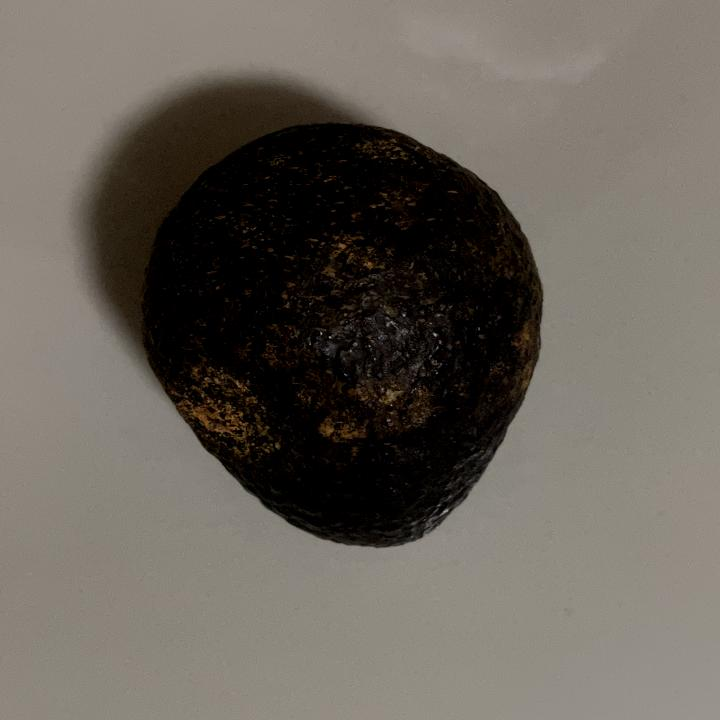Level3: (131, 116, 557, 560)
